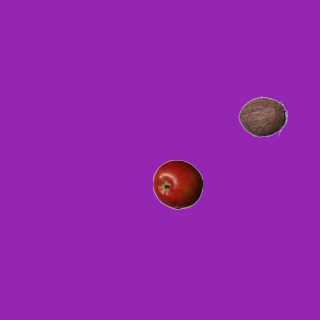Apple Braeburn: (152, 159, 202, 209)
Cocos: (237, 91, 287, 141)
